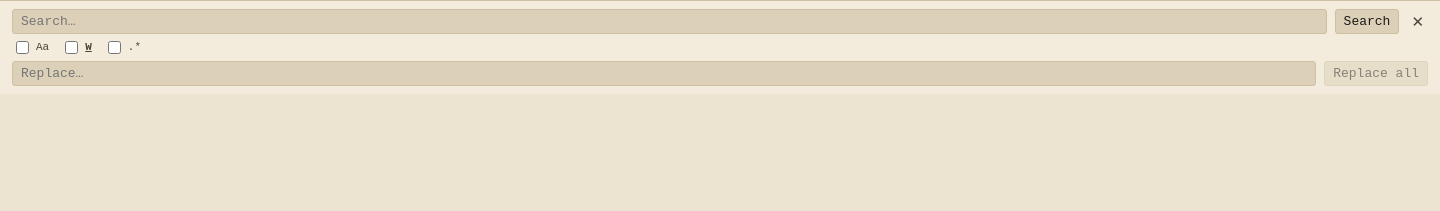
Scenario: SearchPanel › shows an error message when readDocument throws an Error during replace-all
Type "hello" into the field named "Search pattern" at {"x": 669, "y": 22}, box [12,9,1327,34]
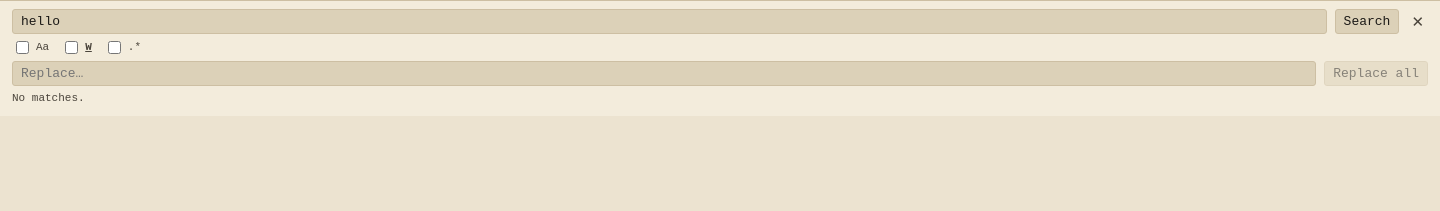
Click the button "Search" at {"x": 1367, "y": 22}, box [1335,9,1399,34]
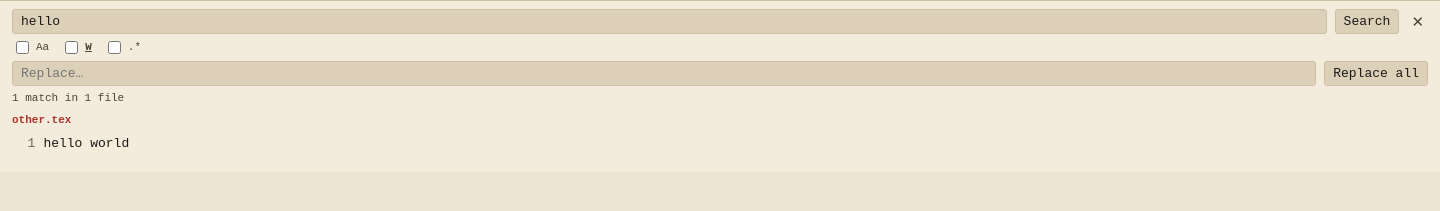
Result: the element named "Search results" is shown at [12,92,129,151]
Click the button "Replace all" at {"x": 1376, "y": 74}, box [1324,61,1428,86]
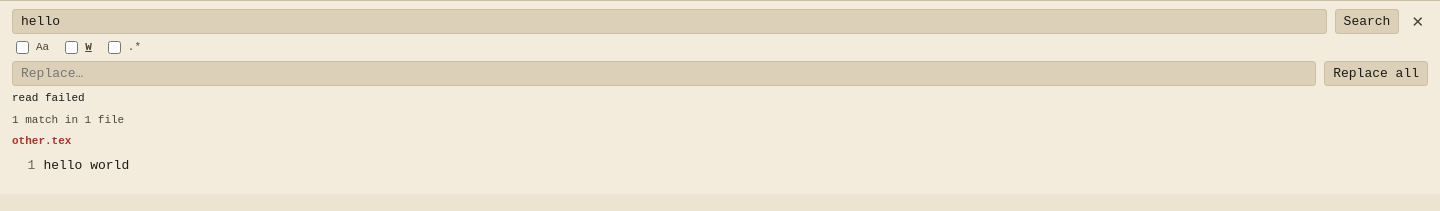
Result: the text "read failed" is shown at [12,92,85,104]
